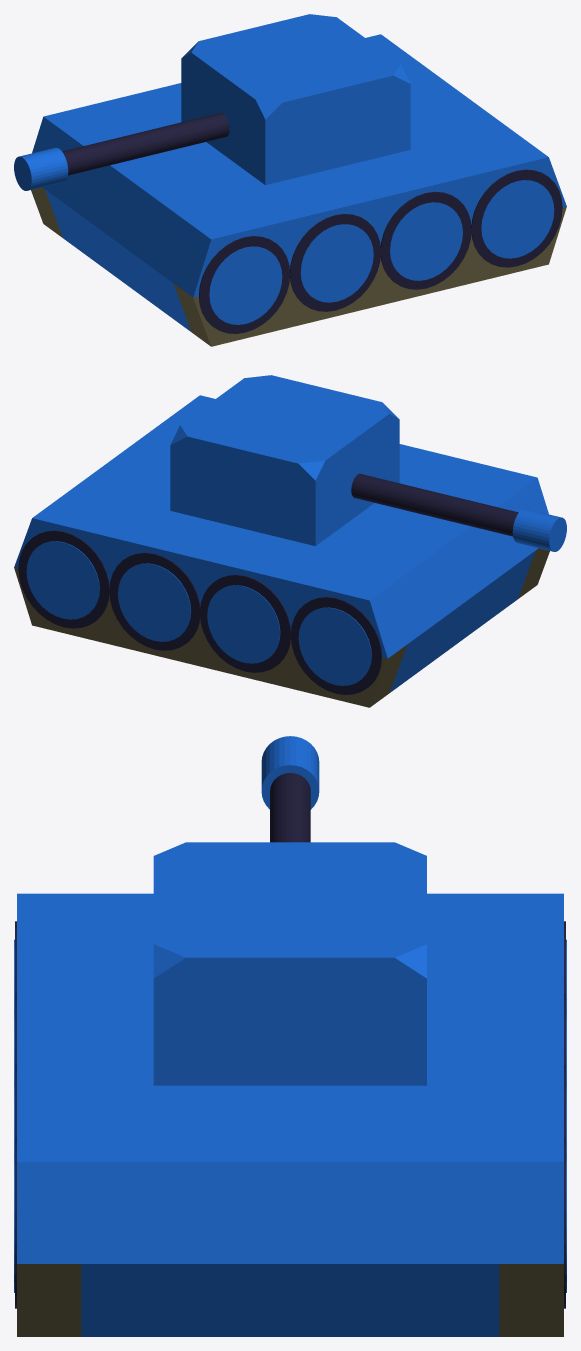
The picture shows the model from 3 angles, top to bottom: view 1: azimuth 30°, elevation 25°; view 2: azimuth 150°, elevation 25°; view 3: azimuth 270°, elevation 25°; orthographic projection. The views are drawn at different scales.
Parts seen in each view (by area): view 1: 立方体.001, 円柱.002; view 2: 立方体.001, 円柱.002; view 3: 立方体.001, 円柱.002.
Part boxes in pixels (x1,y1,x2,y2): 立方体.001: [31, 34, 566, 346]; 円柱.002: [14, 14, 410, 190]; 立方体.001: [14, 395, 549, 707]; 円柱.002: [170, 375, 566, 551]; 立方体.001: [14, 893, 566, 1336]; 円柱.002: [153, 736, 426, 1085].
Size of the model in its own units: 405 by 633 by 244.
